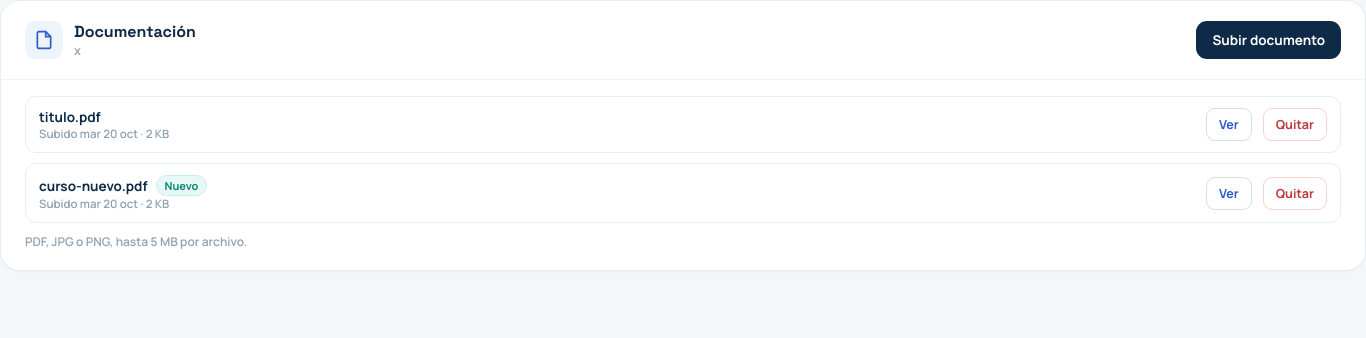
Test: DocumentacionCard › quita un documento después de confirmar
This screenshot has width=1366, height=338.
Check: the text "titulo.pdf" is shown, box [39,108,101,126]
Click the button "Quitar" in the row of "titulo.pdf" at (1295, 124), box [1263,108,1327,141]
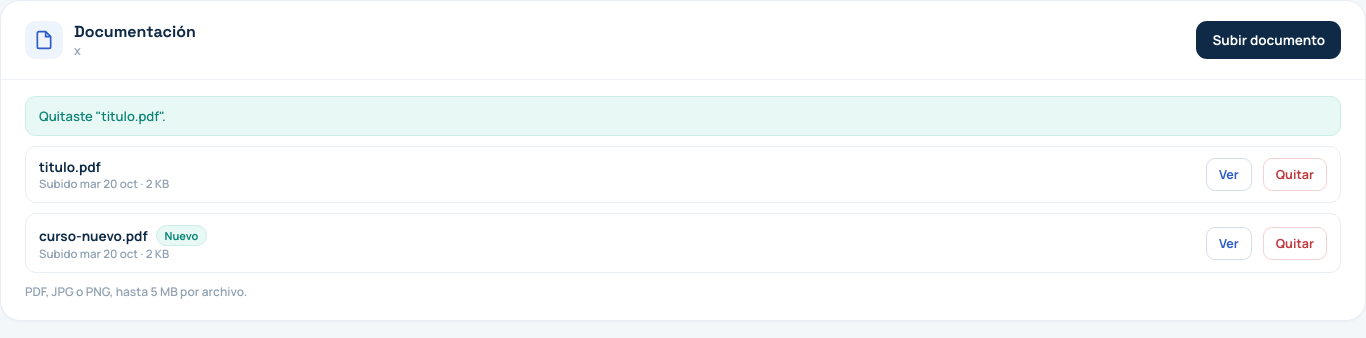
Check: the text "Quitaste \"titulo.pdf\"." is shown, box [25,96,1341,136]
